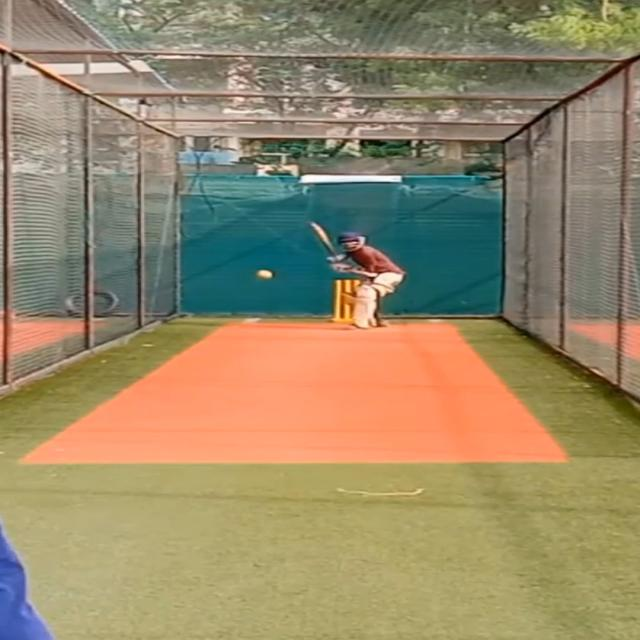ball: (253, 266, 277, 282)
stump: (332, 278, 368, 323)
